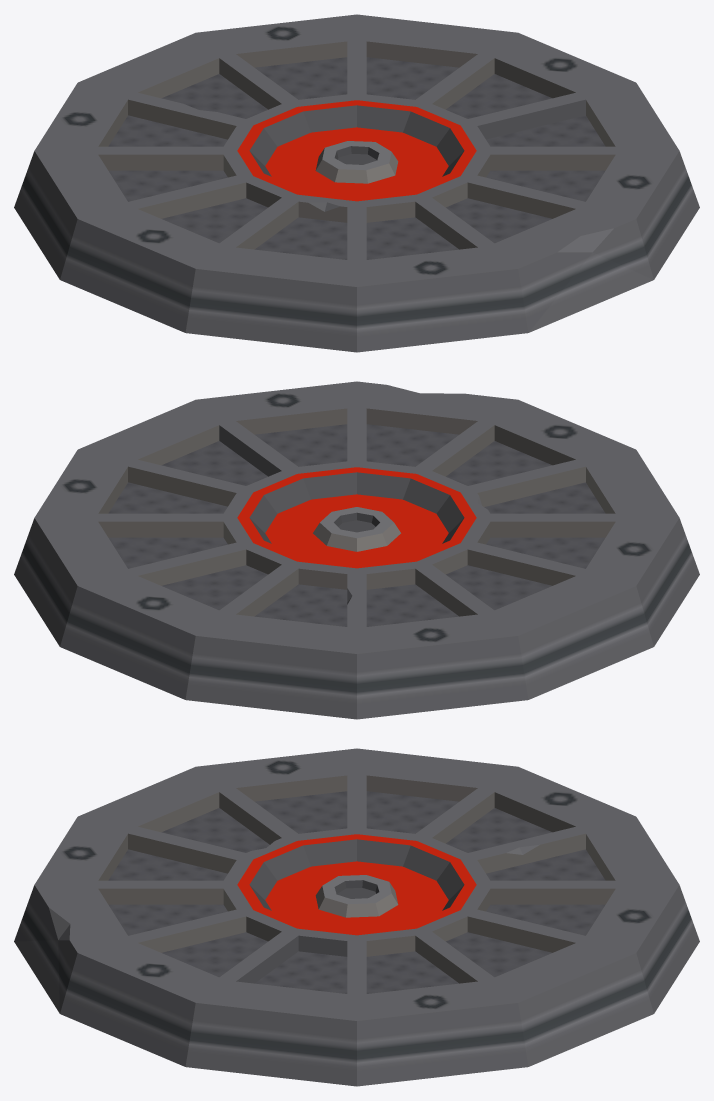
The model's file is SM_Prop_Manholes_02.fbx.
3 renders of one model, top to bottom at view 1: azimuth 30°, elevation 25°; view 2: azimuth 150°, elevation 25°; view 3: azimuth 270°, elevation 25°, orthographic.
Parts seen in each view (by area): view 1: SM_Prop_Manholes_02; view 2: SM_Prop_Manholes_02; view 3: SM_Prop_Manholes_02.
Part boxes in pixels (bbox=[...]): SM_Prop_Manholes_02: bbox=[14, 14, 699, 352]; SM_Prop_Manholes_02: bbox=[14, 381, 699, 719]; SM_Prop_Manholes_02: bbox=[14, 748, 699, 1086].
Bounding box in the file's own units: 129 × 11.77 × 129.
